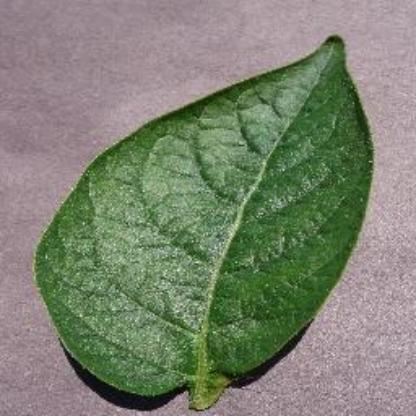Healthy-plant: (30, 27, 406, 413)
